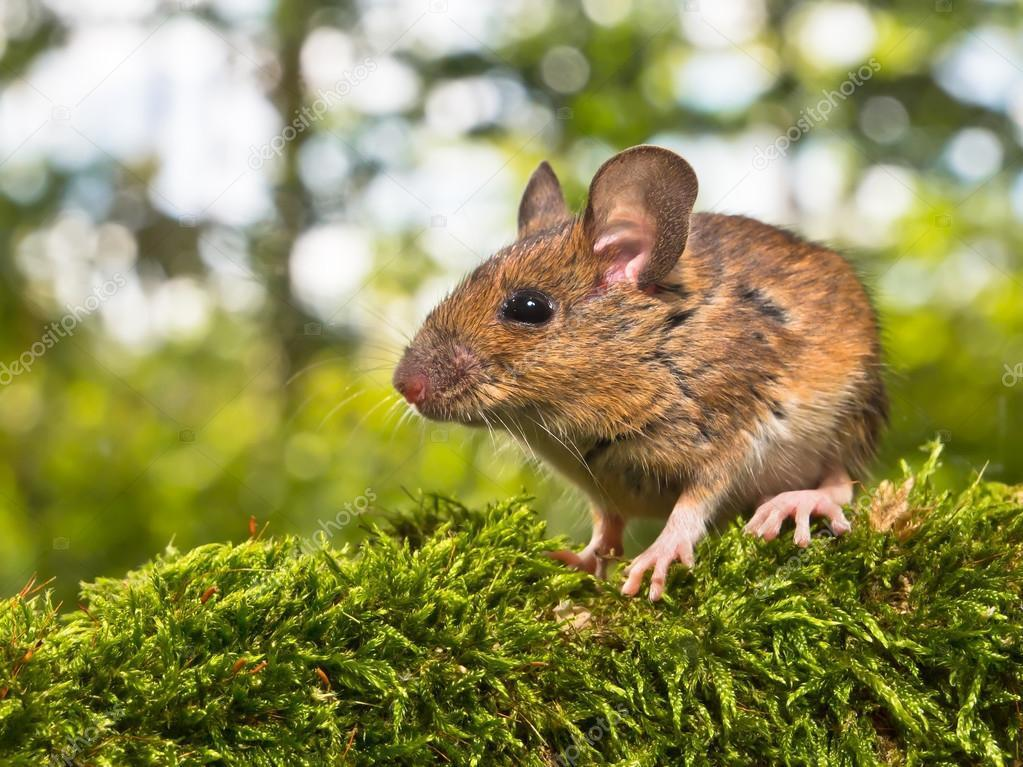rat: (392, 146, 886, 600)
